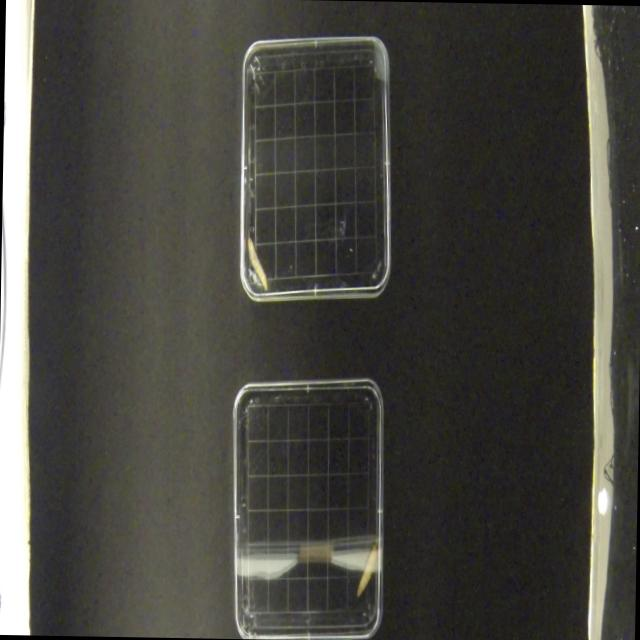larva: (246, 232, 270, 292), (354, 544, 376, 602)
